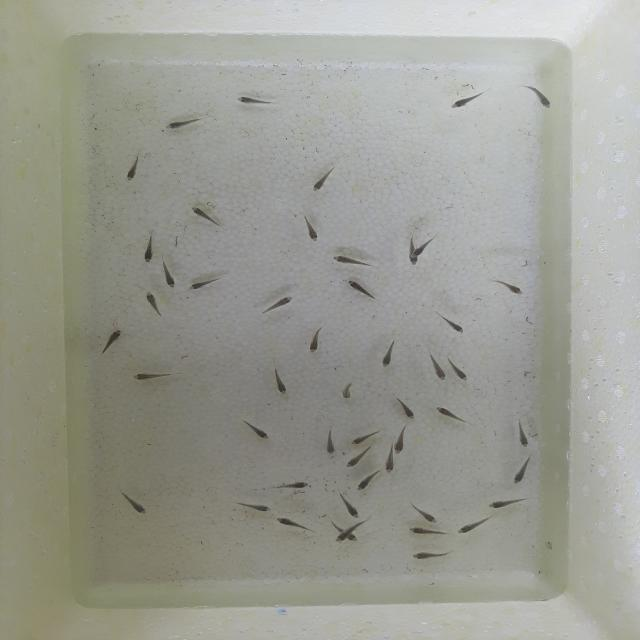fingerling: (262, 476, 315, 494), (484, 274, 526, 296), (301, 326, 328, 358), (444, 91, 479, 114), (447, 358, 476, 385), (263, 292, 295, 316), (185, 273, 223, 293), (234, 92, 278, 109), (423, 358, 454, 382), (187, 202, 219, 225), (337, 450, 369, 473), (122, 492, 150, 518), (424, 404, 464, 422), (456, 515, 490, 536), (142, 290, 168, 317), (331, 252, 372, 269), (156, 119, 214, 131), (377, 340, 399, 371), (274, 517, 314, 534), (392, 397, 419, 422), (511, 422, 535, 450), (438, 315, 469, 336), (122, 156, 146, 183), (306, 170, 334, 193), (345, 278, 376, 298), (271, 367, 291, 398), (413, 505, 443, 525), (228, 500, 278, 512), (508, 459, 530, 486), (130, 372, 188, 382), (530, 86, 554, 110), (245, 419, 271, 441), (141, 233, 158, 266), (102, 326, 122, 354), (487, 496, 527, 510), (303, 217, 322, 246), (348, 430, 375, 449), (353, 472, 380, 491), (340, 493, 359, 519), (160, 258, 176, 288), (406, 234, 420, 268), (408, 524, 444, 537), (393, 427, 408, 454), (411, 550, 450, 560), (324, 423, 335, 456), (408, 246, 437, 258), (384, 449, 395, 477), (343, 376, 353, 402), (332, 529, 348, 544), (346, 534, 360, 542)
